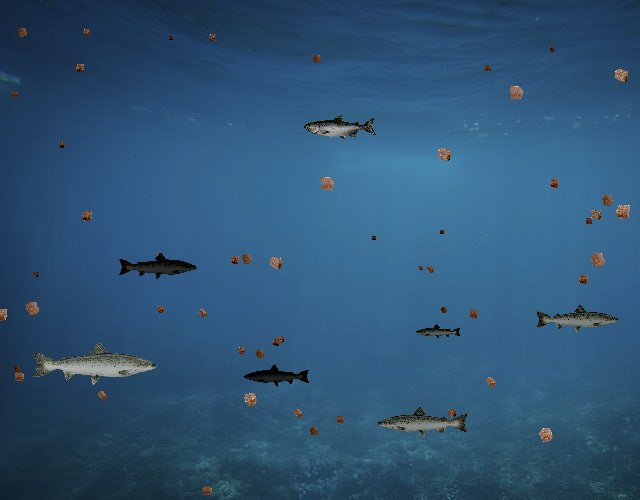Fish: (30, 340, 159, 386), (376, 405, 470, 439), (534, 303, 620, 334), (118, 252, 199, 281), (304, 115, 377, 141), (243, 364, 311, 388), (416, 324, 463, 341)
Pellet: (608, 196, 638, 226), (236, 385, 264, 413), (262, 250, 289, 277), (12, 22, 33, 43), (78, 25, 94, 41), (546, 44, 559, 57), (29, 268, 41, 280)
